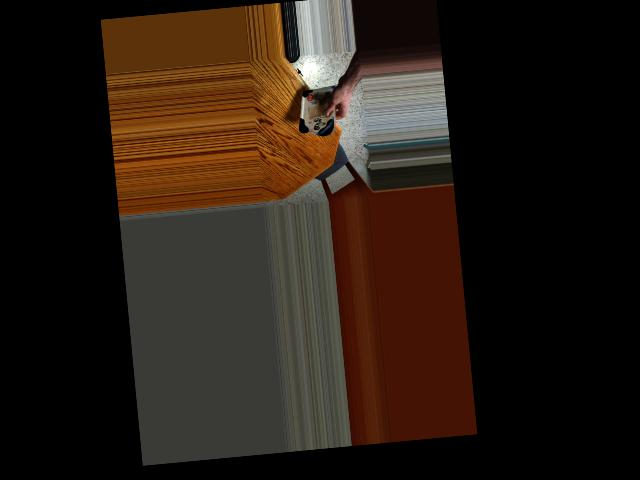cheese: (294, 83, 344, 139)
